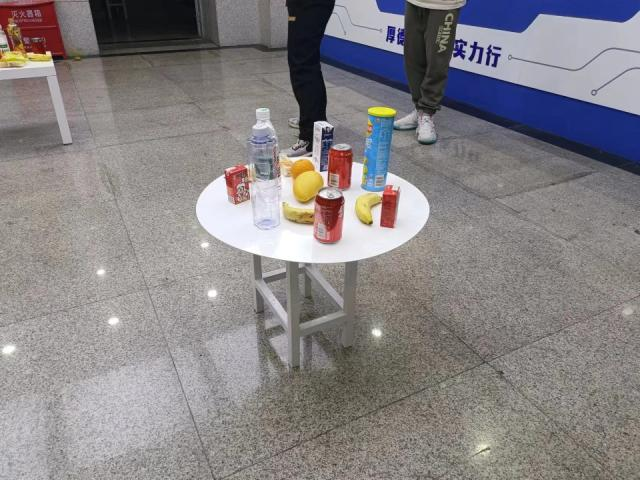Canned_drinks: (314, 188, 344, 245), (326, 144, 354, 190)
bottle: (245, 124, 283, 230)
cylinder: (360, 106, 396, 192)
drink_box: (312, 121, 334, 172), (225, 164, 250, 205), (380, 184, 400, 228)
